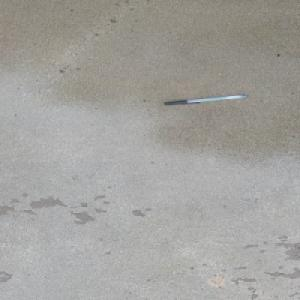Pen: (163, 93, 248, 106)
